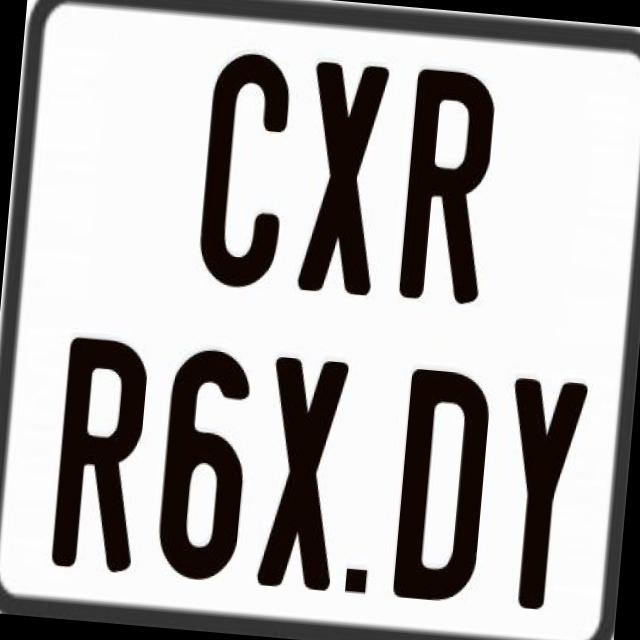6: (150, 344, 249, 588)
C: (196, 51, 300, 300)
D: (392, 368, 496, 605)
R: (395, 65, 498, 311), (48, 333, 148, 571)
X: (293, 59, 392, 300), (256, 354, 352, 594)
Y: (494, 377, 594, 618)
